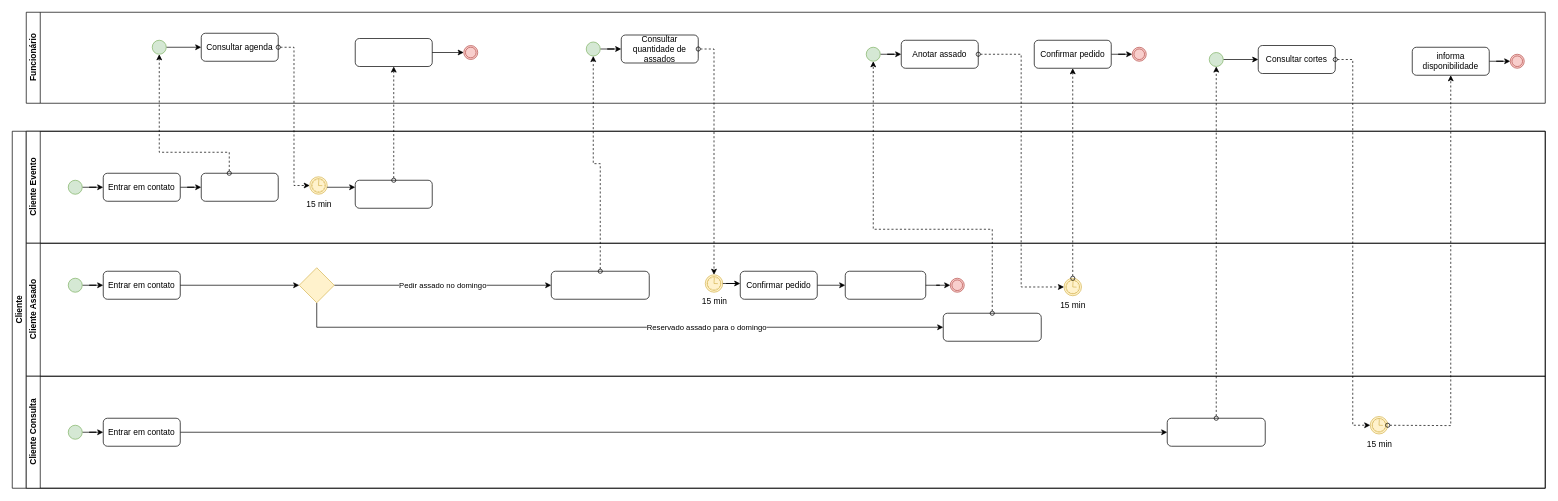
This 1558x501 diagram has some shape labels left out. The shapes that lost their labels are listed below. From the top down, each one's centre as x and y in pixels, then its label:
At (x=393, y=52): "Marcar agenda".
At (x=239, y=187): "Verificar disponibilidade de eventos".
At (x=393, y=194): "Confirmar agendamento".
At (x=600, y=285): "Verificar disponibilidade de assados restantes".
At (x=885, y=285): "Pagar assado".
At (x=992, y=327): "Reservar assado".
At (x=1216, y=432): "Consultar cortes disponíveis".
